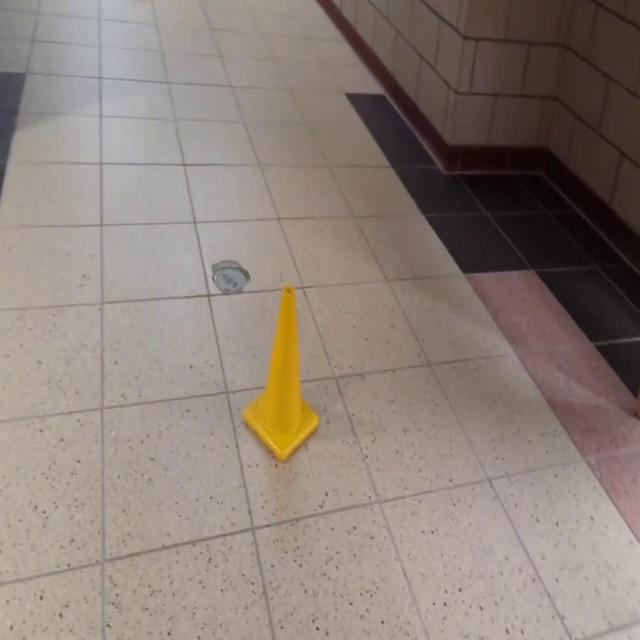frc_cone: (240, 281, 322, 468)
